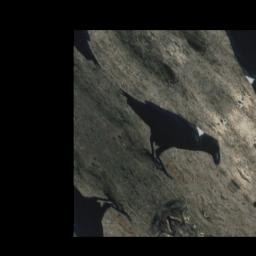Crow: (100, 59, 230, 199)
